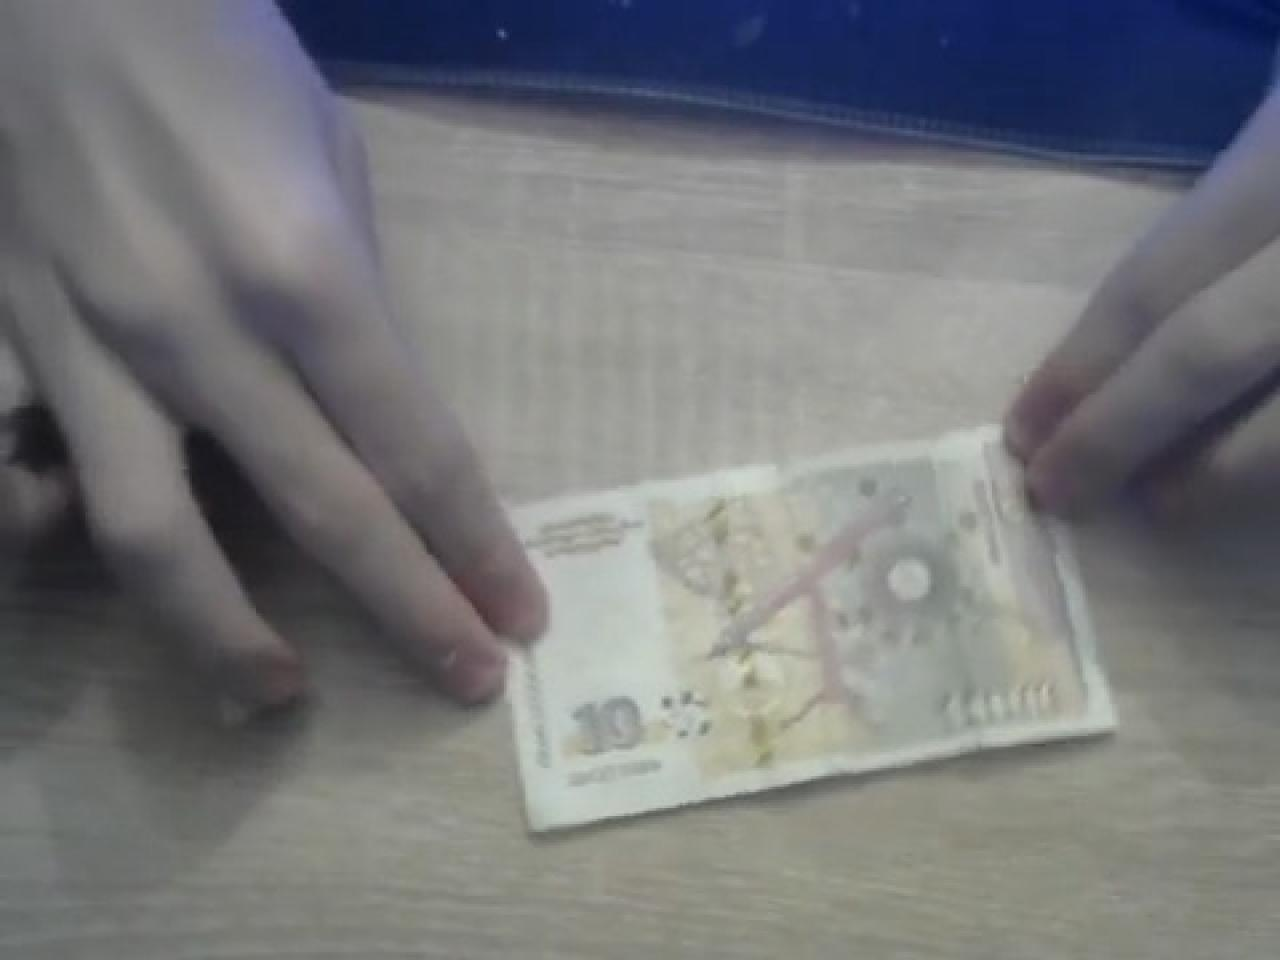10leva: (509, 427, 1118, 837)
